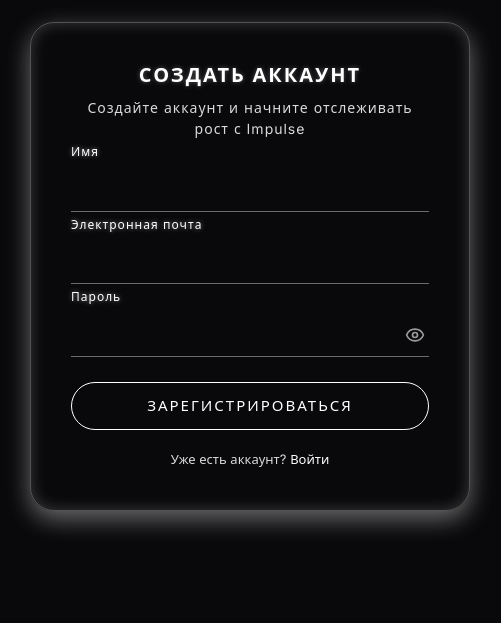
Scenario: SignUp › shows error when name is empty
Type "user@example.com" into the field labelled "Электронная почта" at (250, 260), box [71,236,429,284]
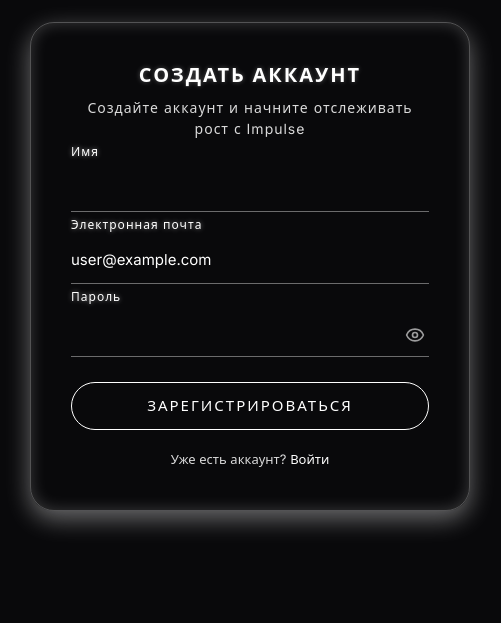
Type "password123" into the password field labelled "Пароль" at (250, 333), box [71,309,429,356]
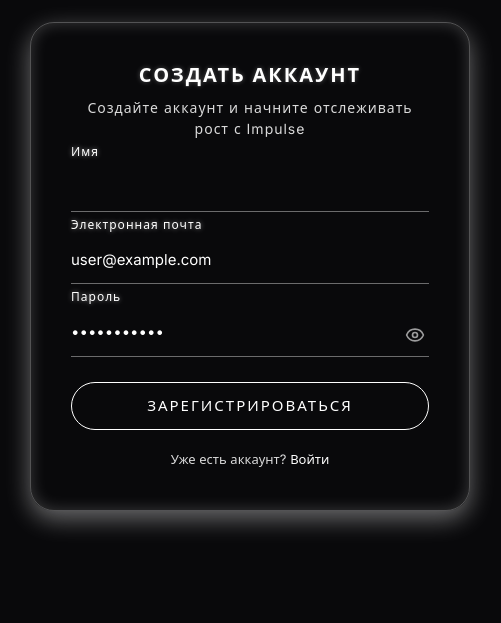
Submit the form labelled "Электронная почта", box [71,164,429,430]
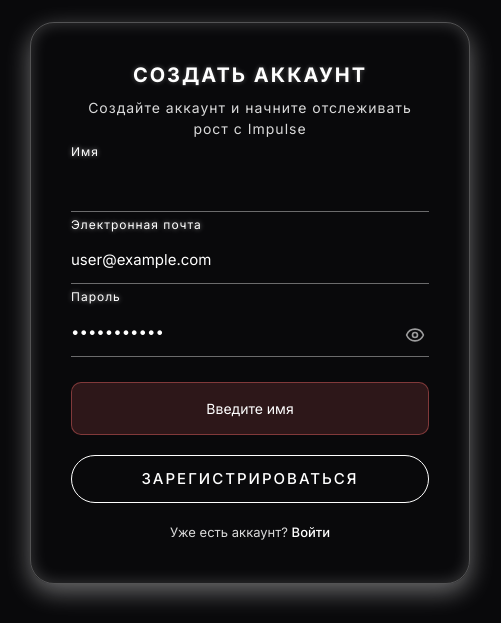
Expected: the text "Введите имя" is shown, [71,382,429,434]
